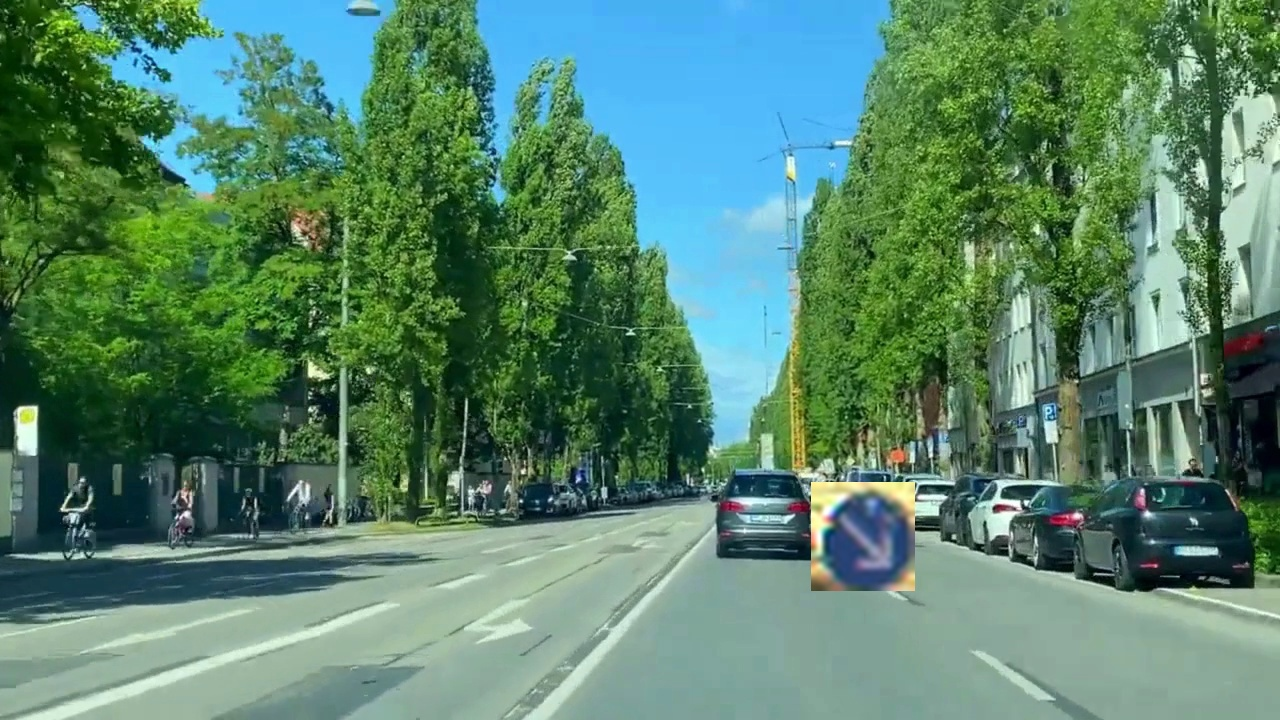Keep right: (811, 482, 915, 591)
